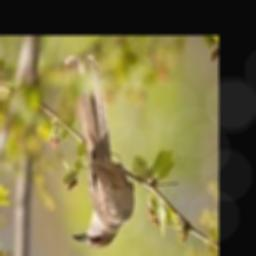Cuckoo: (66, 56, 135, 249)
